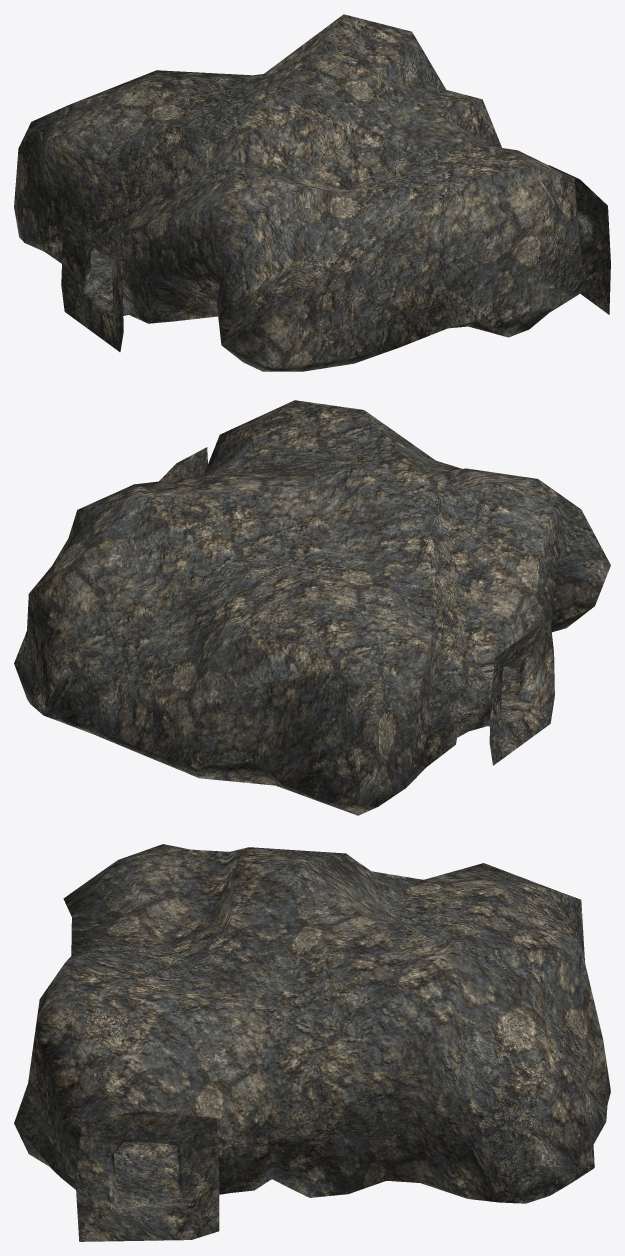
File: Module16_LOD2.fbx
The picture shows the model from 3 angles, top to bottom: view 1: azimuth 30°, elevation 25°; view 2: azimuth 150°, elevation 25°; view 3: azimuth 270°, elevation 25°; orthographic projection. The views are drawn at different scales.
Visible parts, largest first — view 1: cave_el16_1800:Group50014; view 2: cave_el16_1800:Group50014; view 3: cave_el16_1800:Group50014.
Boxes of the visible parts, x1,y1,x2,y2 form: cave_el16_1800:Group50014: (14,14,610,371); cave_el16_1800:Group50014: (14,400,610,815); cave_el16_1800:Group50014: (14,844,610,1241).
Size of the model in its own units: 30.47 by 16.01 by 33.49.
